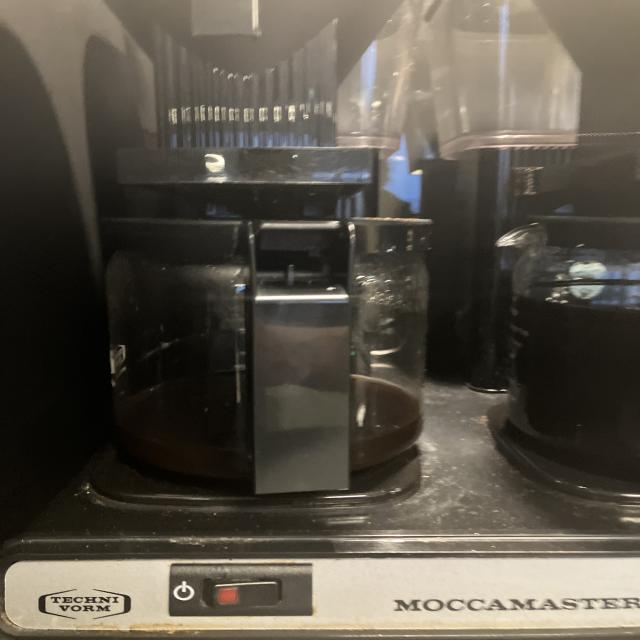coffee: (57, 196, 455, 505), (489, 194, 640, 498)
